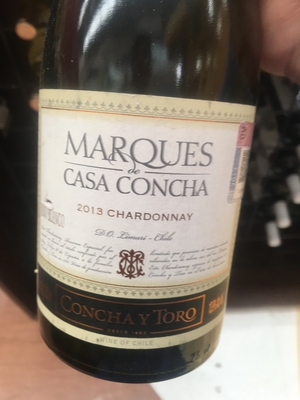marques de casa concha chardonnay: (35, 16, 259, 386)
